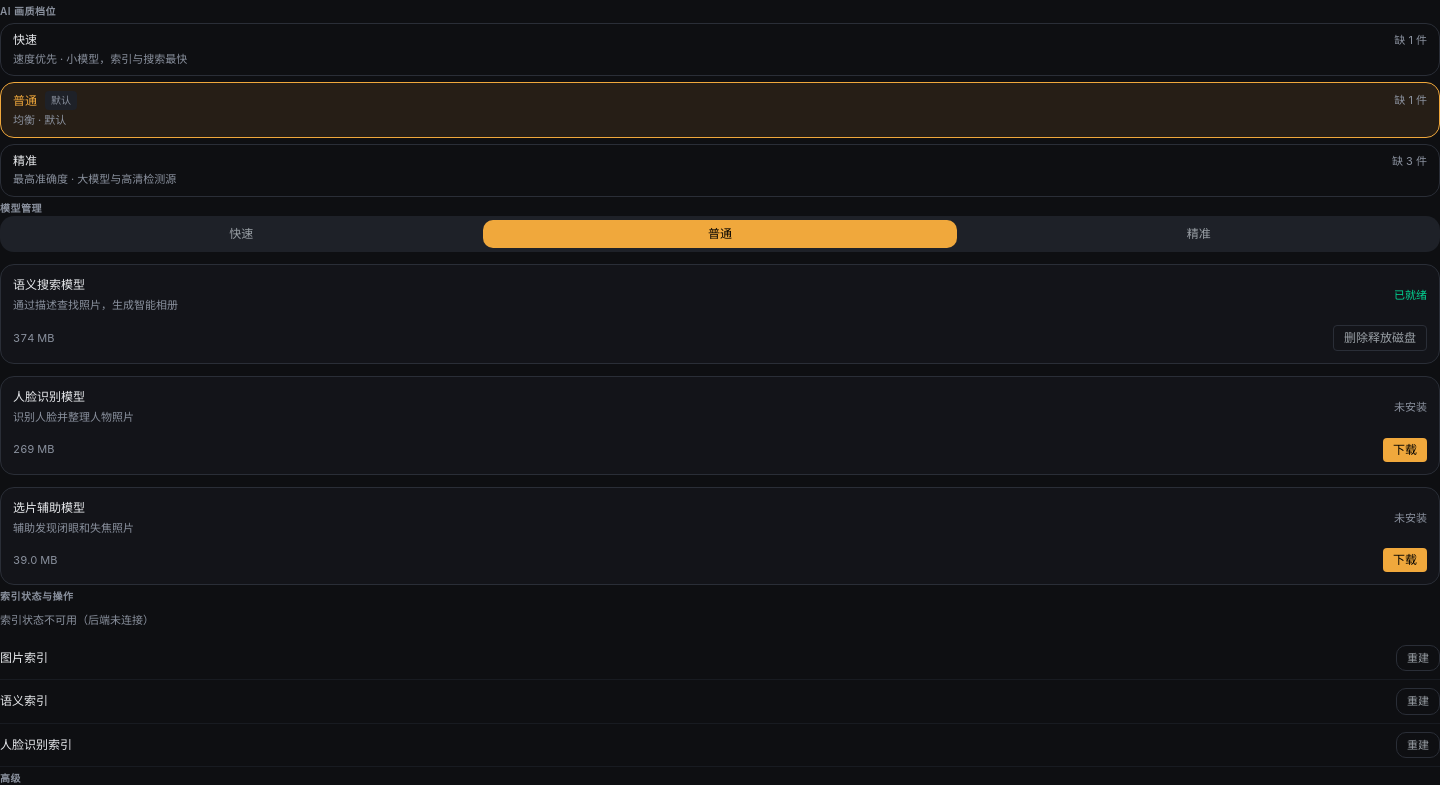
Test: 档位切换三态 › 等待中可取消：横幅退场，下载完成后不切档
Expected: the element with test id "ai-quality-tier" is shown, [0,4,1439,196]
Click the radio button with test id "ai-tier-option-accurate": [1410, 160] box [0,144,1439,196]
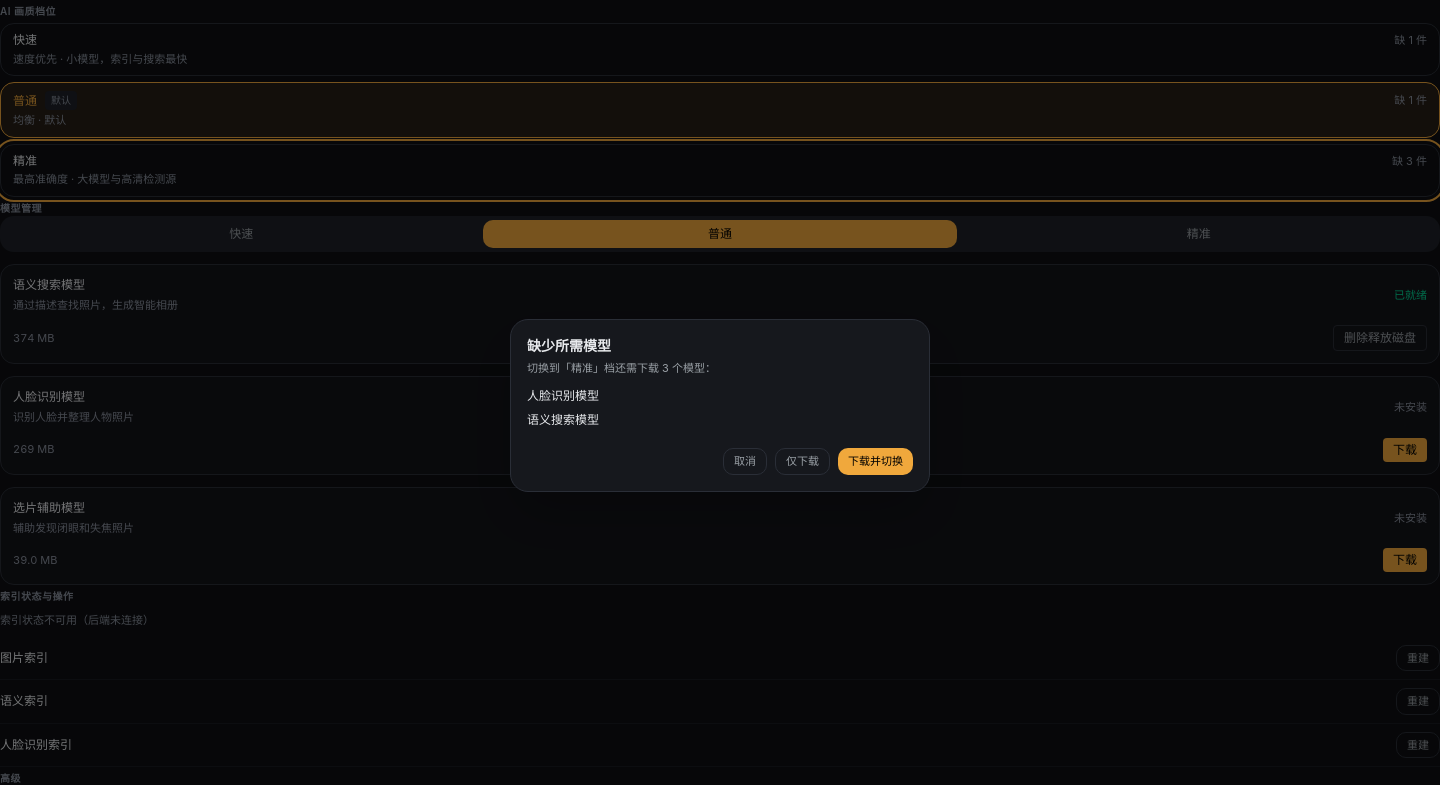
Click the button with test id "ai-tier-download-switch": [876, 461] box [838,448,913,474]
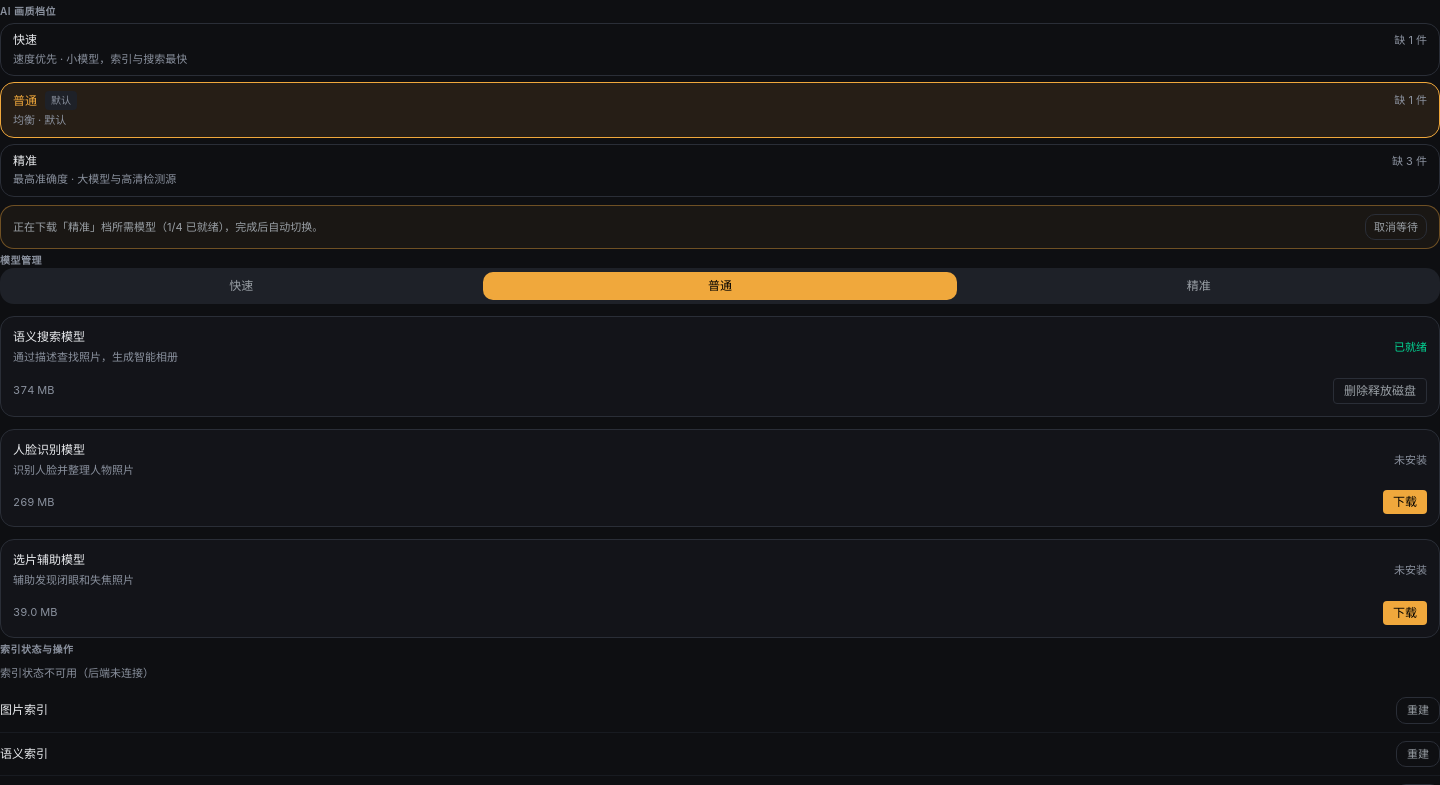
Expected: the element with test id "ai-tier-pending" is shown, [0,204,1439,249]
Click the button with test id "ai-tier-pending-cancel": [1396, 227] box [1365,214,1427,240]
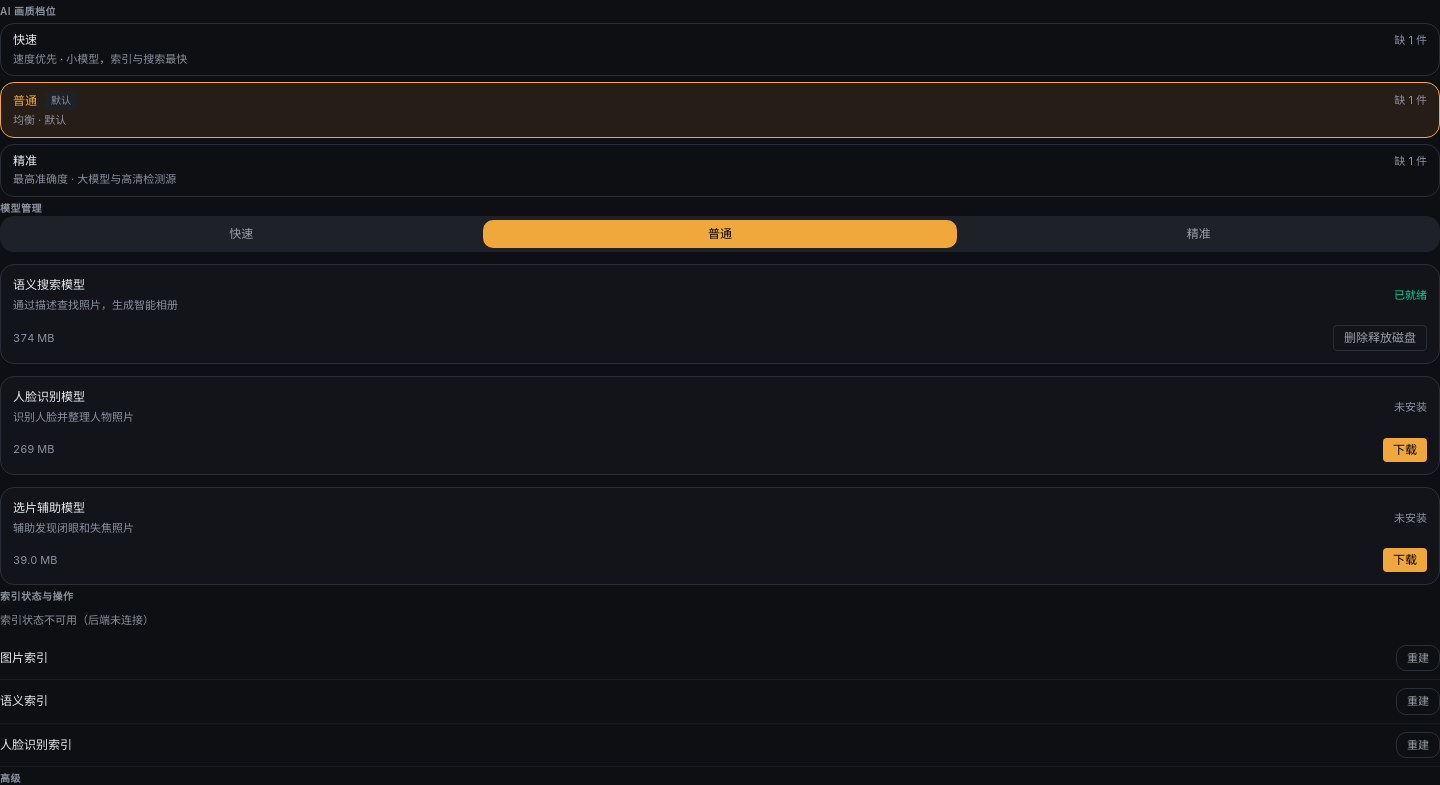
Expected: the element with test id "ai-tier-pending" is gone
